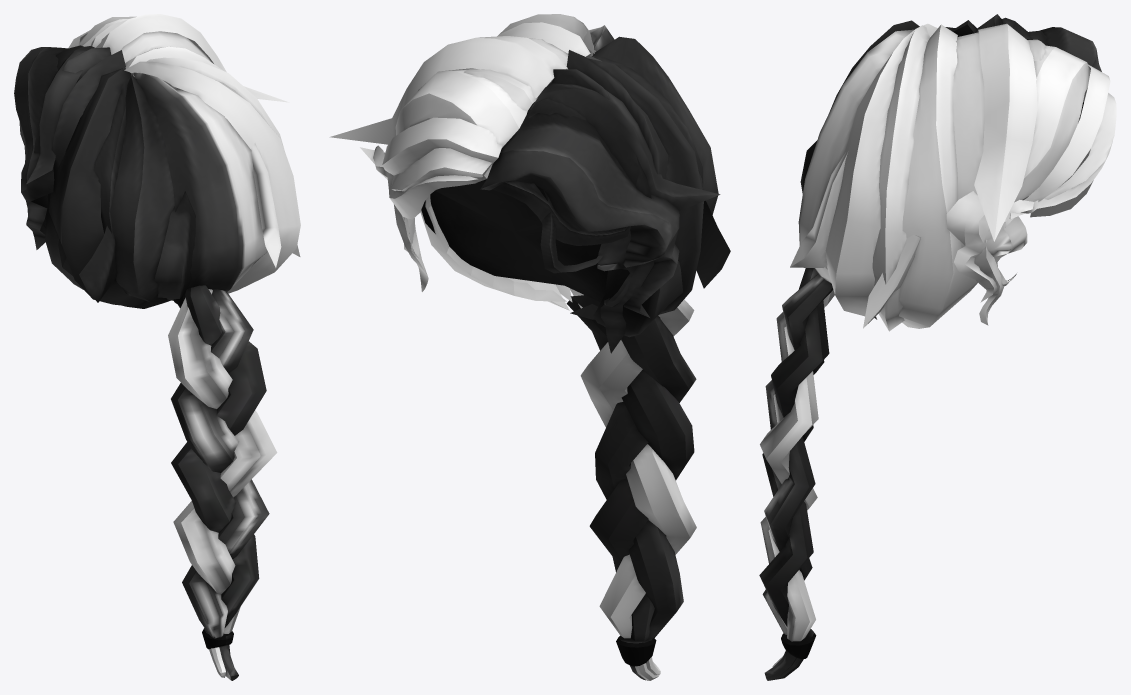
The picture shows the model from 3 angles, left to right: view 1: azimuth 30°, elevation 25°; view 2: azimuth 150°, elevation 25°; view 3: azimuth 270°, elevation 25°; orthographic projection. The views are drawn at different scales.
Visible parts, largest first — view 1: geometry_0; view 2: geometry_0; view 3: geometry_0.
Boxes of the visible parts, box(x1,y1,x2,y2) form: geometry_0: box(14, 14, 300, 680); geometry_0: box(329, 14, 730, 680); geometry_0: box(759, 14, 1116, 680).
Bounding box in the file's own units: 2.22 × 4.29 × 2.11.
Materials: 1 (1 with a texture image).
